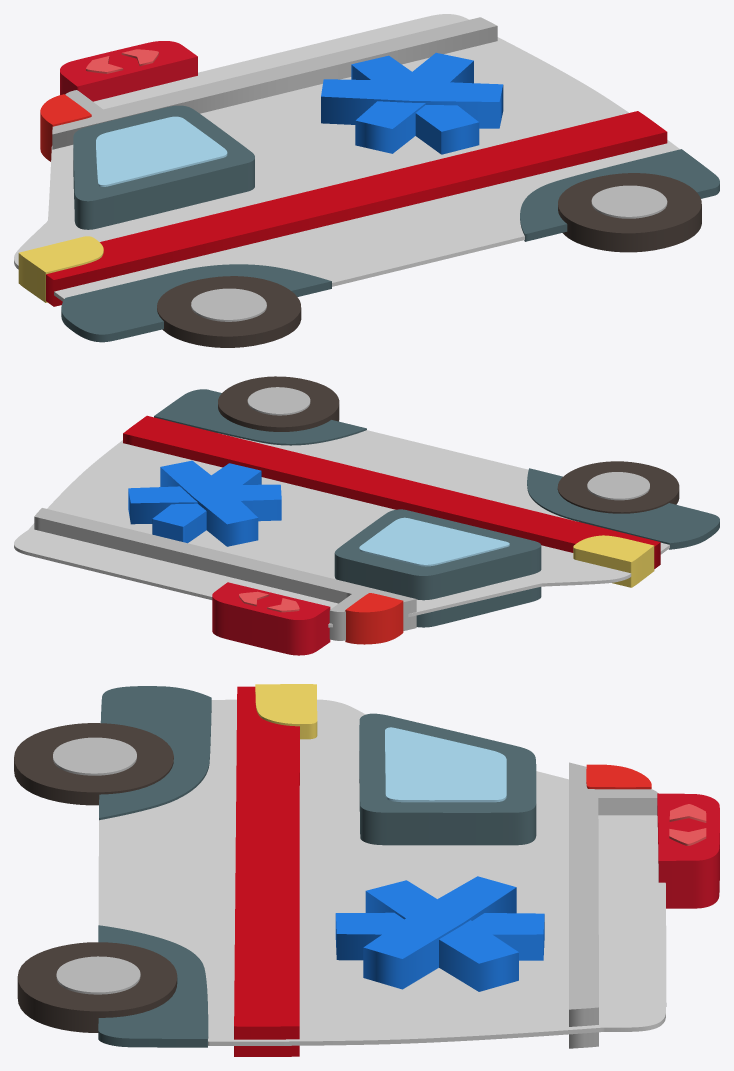
The model's file is emoji_u1f691.glb.
The picture shows the model from 3 angles, top to bottom: view 1: azimuth 30°, elevation 25°; view 2: azimuth 150°, elevation 25°; view 3: azimuth 270°, elevation 25°; orthographic projection. The views are drawn at different scales.
Parts seen in each view (by area): view 1: emoji_u1f691; view 2: emoji_u1f691; view 3: emoji_u1f691.
Part boxes in pixels (bbox=[...]): emoji_u1f691: bbox=[14, 14, 719, 347]; emoji_u1f691: bbox=[14, 376, 719, 655]; emoji_u1f691: bbox=[14, 684, 719, 1056].
Bounding box in the file's own units: 0.0349 × 0.0034 × 0.0294.
